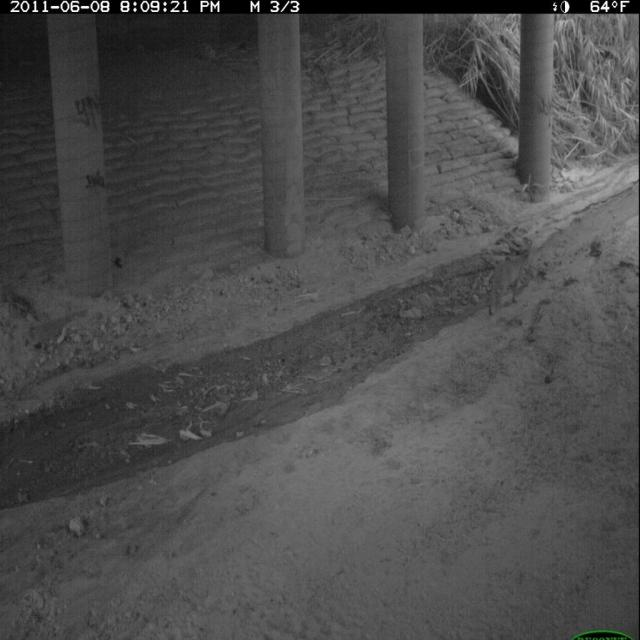bobcat: (485, 238, 538, 321)
